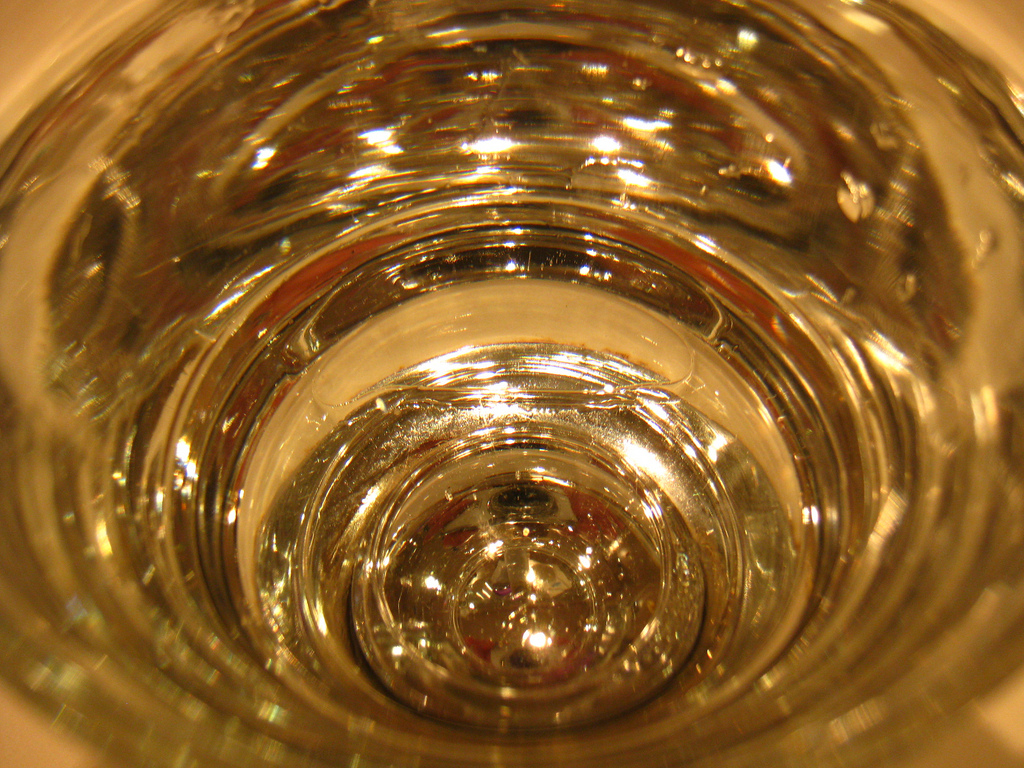glass of water: (52, 27, 1006, 755)
